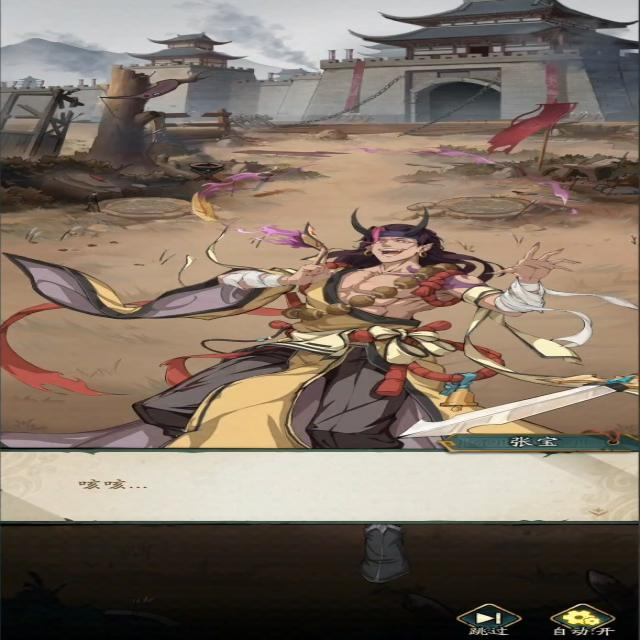system-auto: (552, 602, 618, 637)
system-skip: (457, 601, 521, 637)
